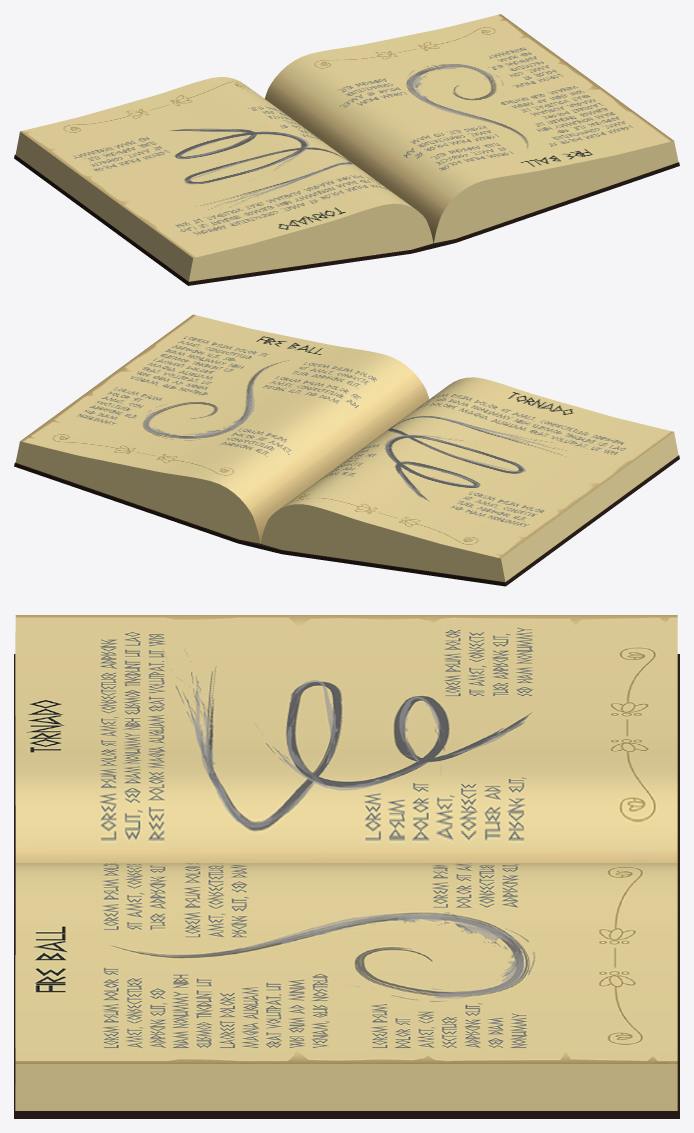
Rendered from Grimoire.fbx.
3 views of the same model, one above another, from view 1: azimuth 30°, elevation 25°; view 2: azimuth 150°, elevation 25°; view 3: azimuth 270°, elevation 25° (orthographic). The views are drawn at different scales.
Parts seen in each view (by area): view 1: Volumen derecho, Volumen izquierdo, Tapa izquierda, Tapa derecha; view 2: Volumen derecho, Volumen izquierdo, Tapa izquierda, Tapa derecha; view 3: Volumen izquierdo, Volumen derecho, Tapa derecha, Tapa izquierda.
Part boxes in pixels (x1,y1,x2,y2): Volumen derecho: (264,14,678,242); Volumen izquierdo: (15,77,433,281); Tapa izquierda: (14,154,433,285); Tapa derecha: (433,162,679,248); Volumen derecho: (15,314,429,543); Volumen izquierdo: (260,377,678,582); Tapa izquierda: (260,455,679,586); Tapa derecha: (14,462,260,548); Volumen izquierdo: (15,615,677,863); Volumen derecho: (15,863,677,1110); Tapa derecha: (14,925,679,1118); Tapa izquierda: (14,654,679,925).
Size of the model in its own units: 18.33 by 1.96 by 11.24.
Materials: 2 (1 with a texture image).
